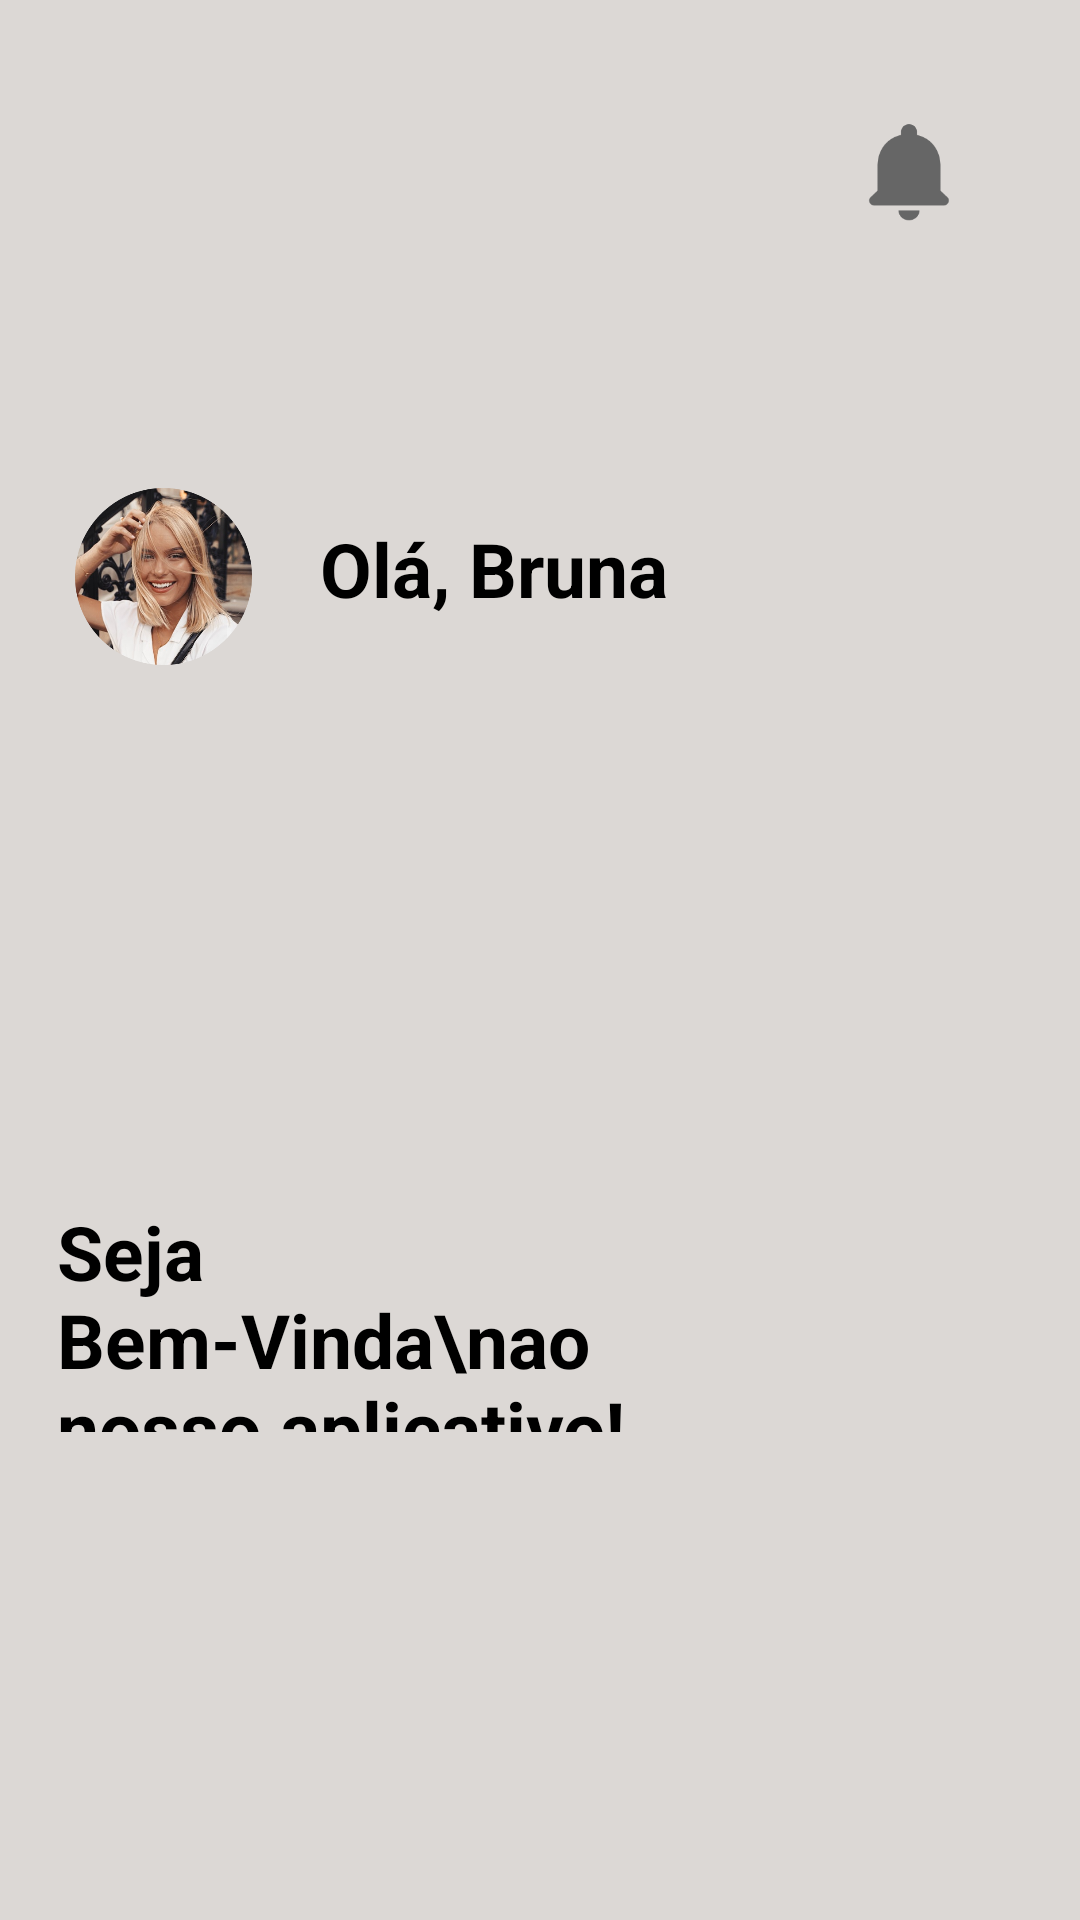

Named icons in this screenshot (1080 × 1920) and their centers, [x,y]:
notification: [909,172]
profile: [163,576]
